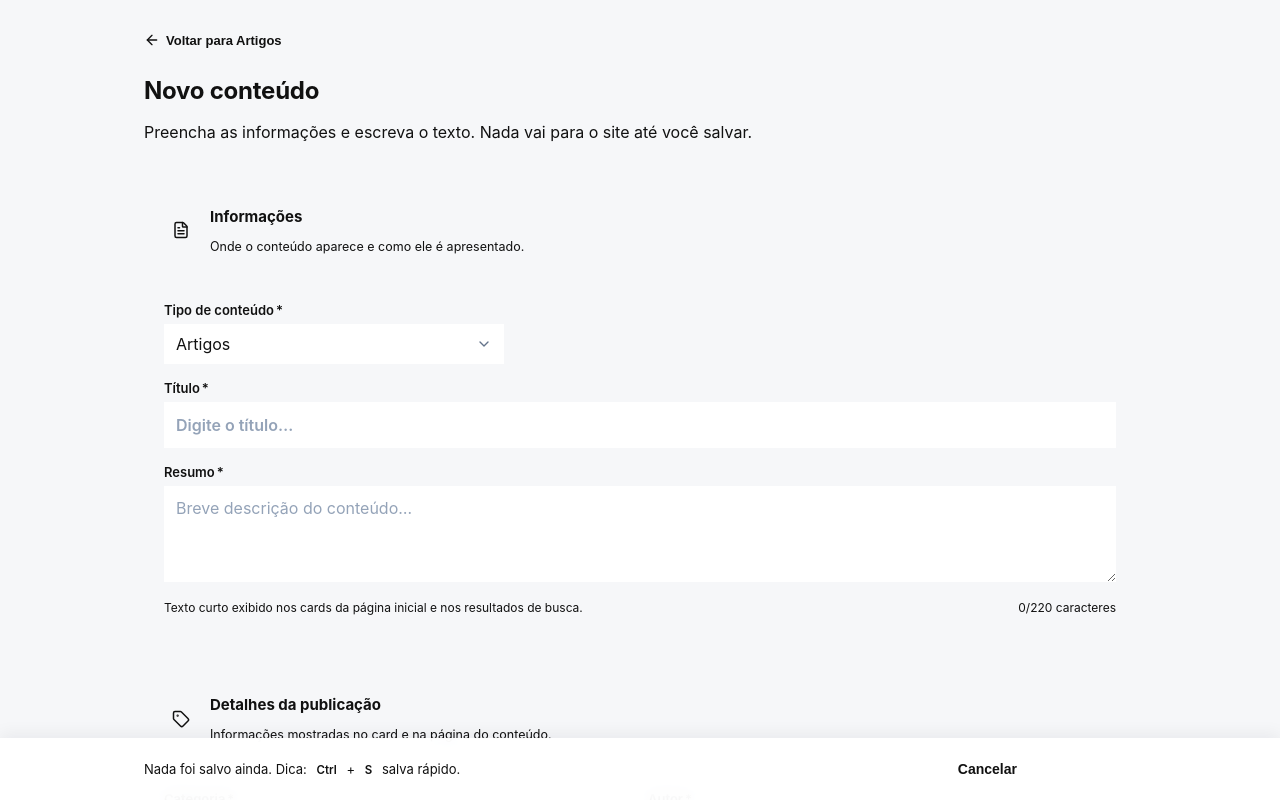
it: ArticleForm — alterações, descarte e salvamento › descartar alterações › o link "Voltar" do topo também respeita as alterações pendentes
The image size is (1280, 800).
Type "Rascunho" into the field labelled "Título*" at x=640, y=425, box [164,402,1116,448]
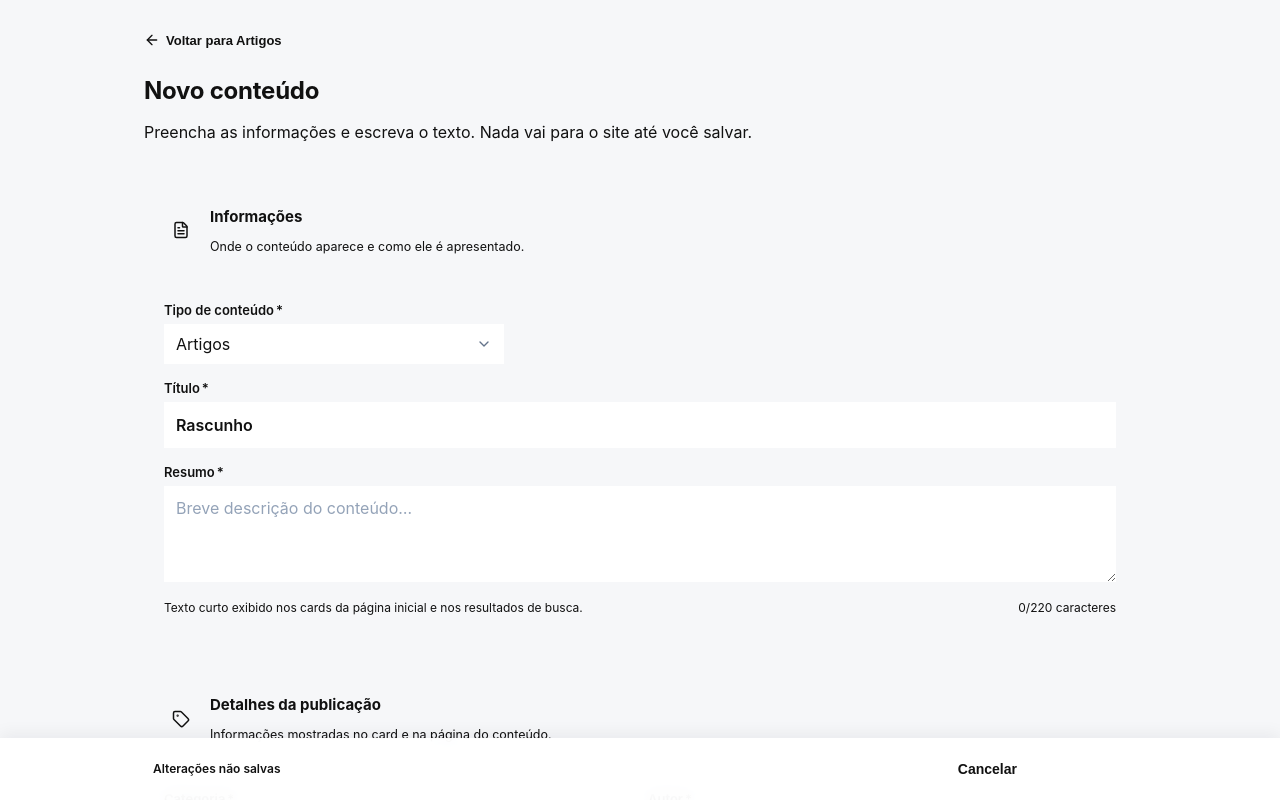
Click the button "Voltar para Artigos" at x=215, y=40, box [140,28,290,52]
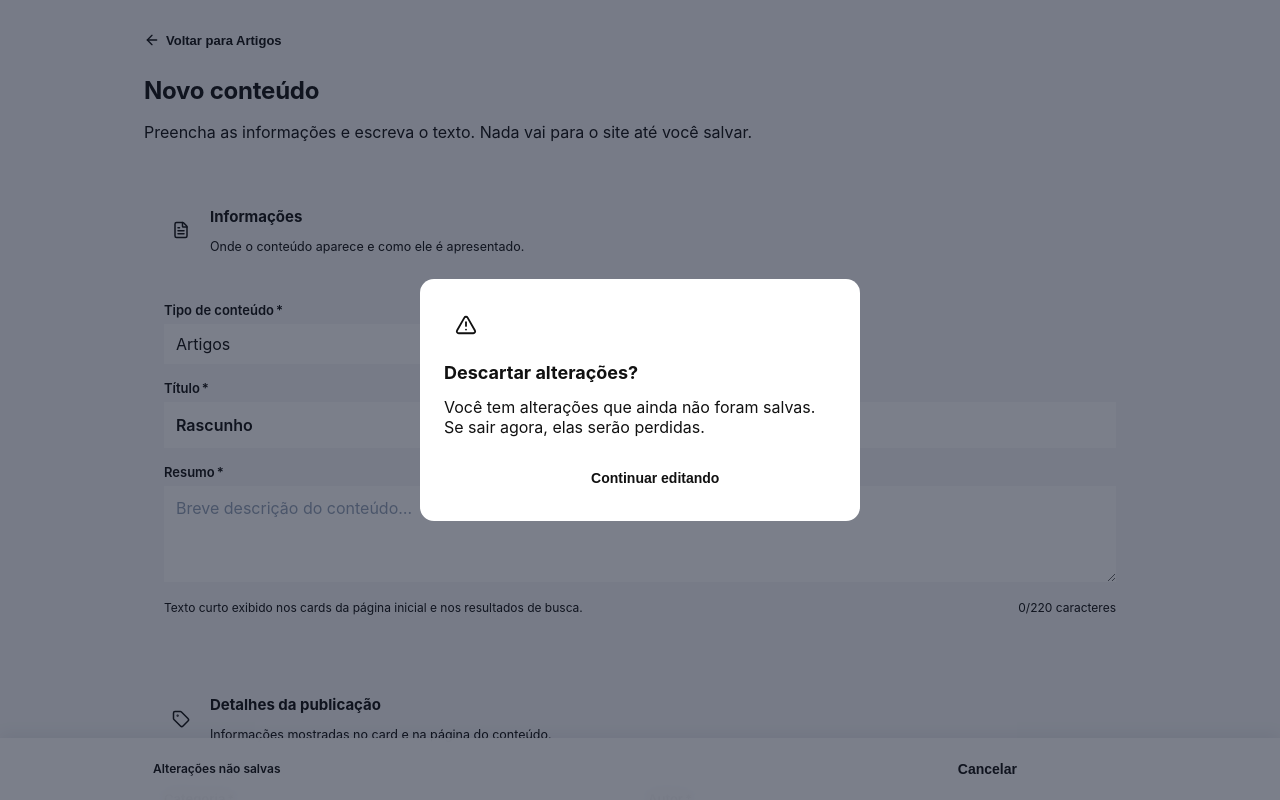
Now the dialog "Descartar alterações?" is shown, box [420,279,860,522]
